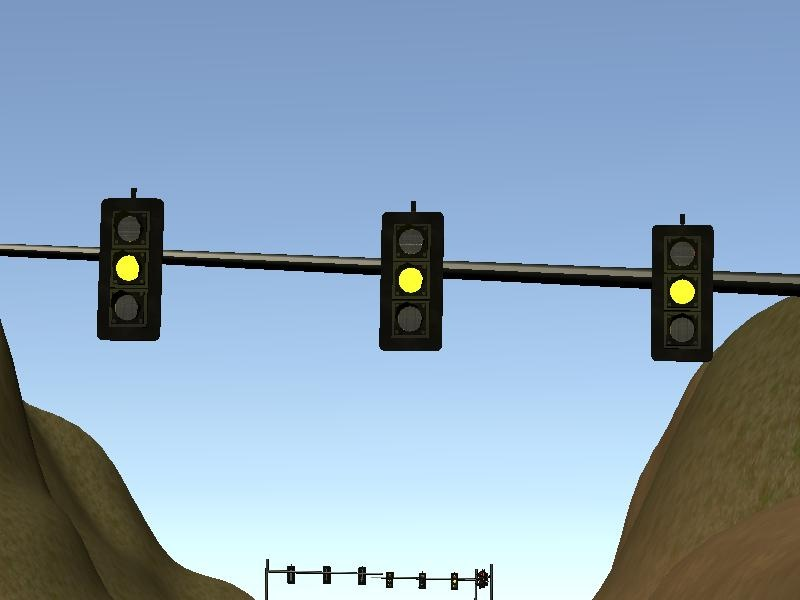yellow: (90, 187, 169, 350), (371, 199, 449, 359), (644, 209, 721, 370)
